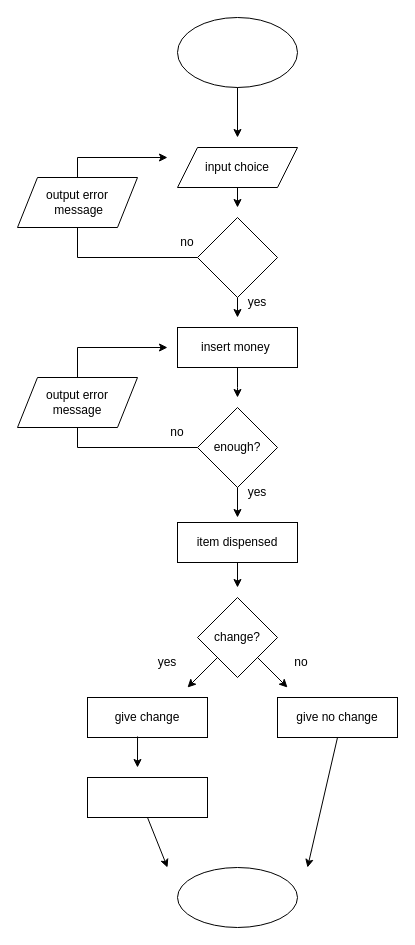
The diagram is 415 pixels wide and 945 high, and some of its shapes have lost their labels. Each missing label, with the box of its shape:
in stock?: (196, 216, 278, 298)
take change: (86, 776, 208, 818)
take item and leave: (176, 866, 298, 928)
View vending machines options & prices: (176, 16, 298, 88)
